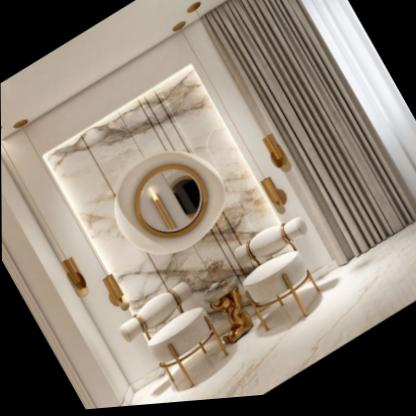Ceramic floor: (140, 226, 416, 407)
Wall Panel: (0, 0, 416, 402)
